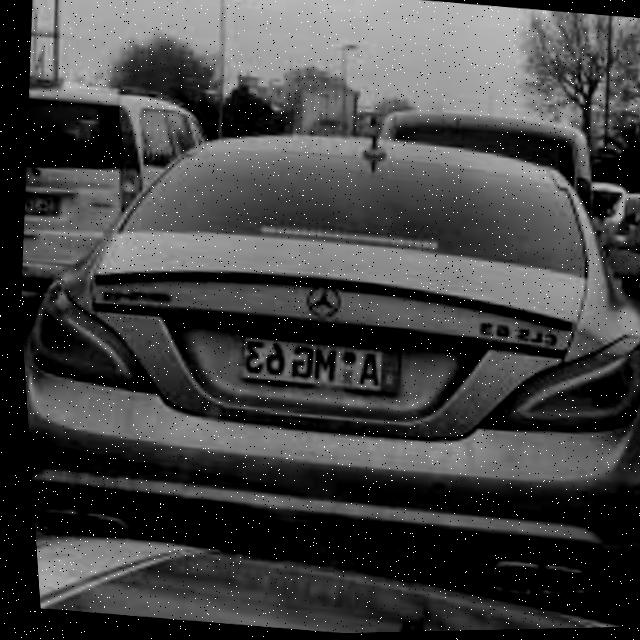license-plates: (240, 338, 399, 396)
